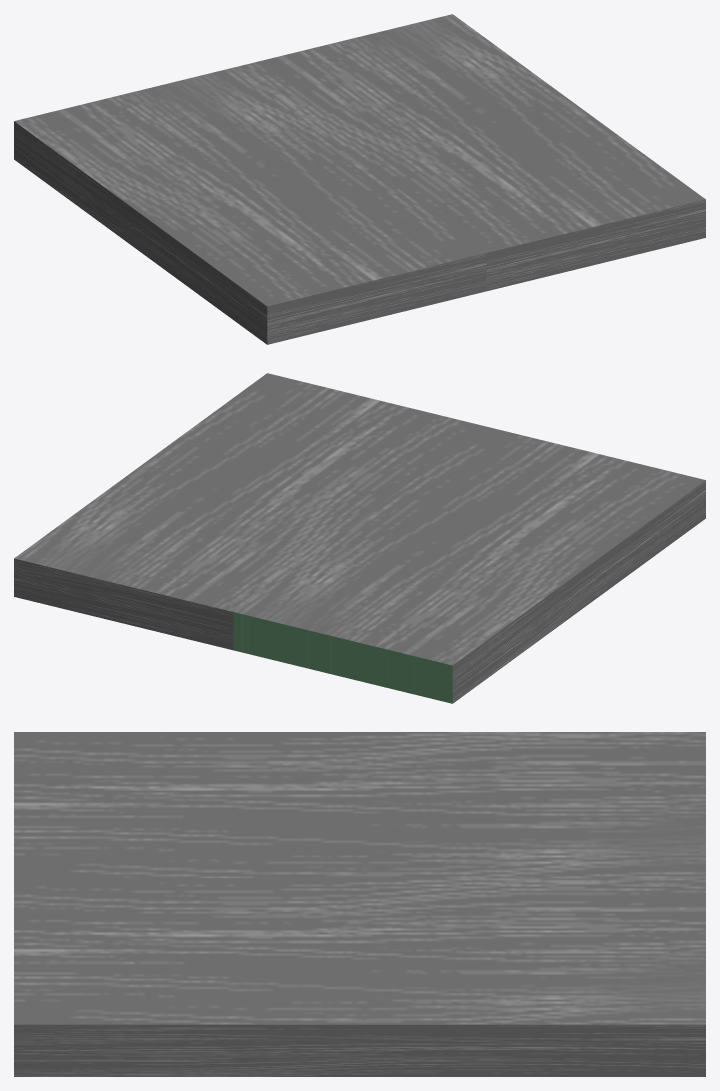
The model's file is fbx_entrance.fbx.
The picture shows the model from 3 angles, top to bottom: view 1: azimuth 30°, elevation 25°; view 2: azimuth 150°, elevation 25°; view 3: azimuth 270°, elevation 25°; orthographic projection. The views are drawn at different scales.
Visible parts, largest first — view 1: fbx_entrance; view 2: fbx_entrance; view 3: fbx_entrance.
Boxes of the visible parts, box(x1,y1,x2,y2) form: fbx_entrance: box(14, 14, 705, 344); fbx_entrance: box(14, 373, 705, 703); fbx_entrance: box(14, 732, 705, 1076).
Bounding box in the file's own units: 1.77 × 0.148 × 1.77.
Materials: 1 (1 with a texture image).
